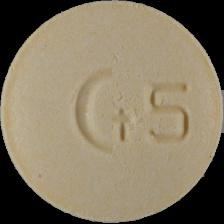57664-745: (0, 0, 224, 224)
